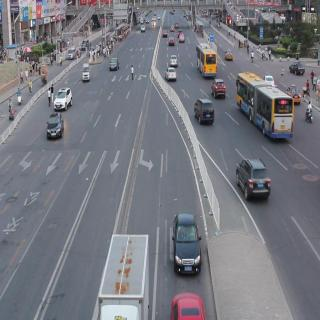BigCar: (239, 68, 287, 129), (102, 236, 144, 305), (193, 36, 221, 82)
Car: (172, 212, 202, 277), (234, 154, 273, 199), (169, 287, 205, 320), (42, 108, 67, 146), (204, 69, 232, 102), (274, 70, 302, 103), (288, 48, 318, 78), (195, 92, 214, 136), (221, 32, 239, 68), (54, 85, 72, 115), (167, 44, 182, 72), (78, 65, 92, 86), (163, 64, 177, 82), (111, 53, 120, 73)
